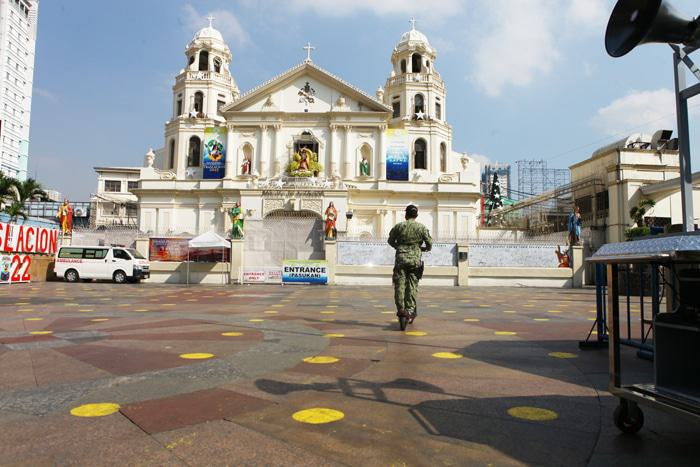quiapo_church_quiapo_manila: (132, 4, 475, 282)
